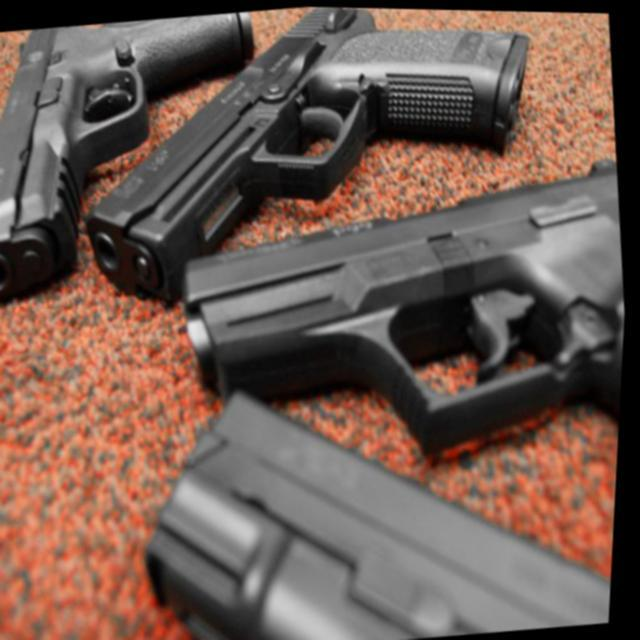weapon: (165, 145, 634, 497), (62, 2, 555, 316), (128, 344, 626, 640), (0, 5, 280, 307)
